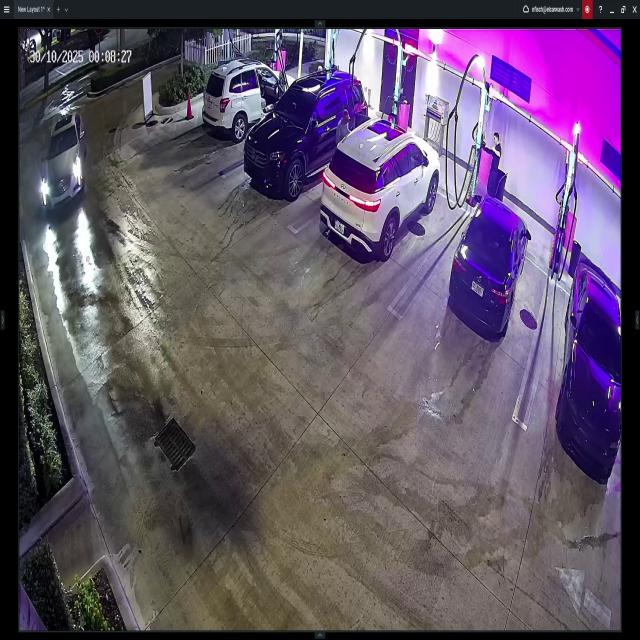Car: (322, 113, 439, 261), (244, 67, 368, 196), (560, 260, 620, 481), (449, 193, 531, 337), (202, 57, 297, 138), (41, 115, 87, 209)
